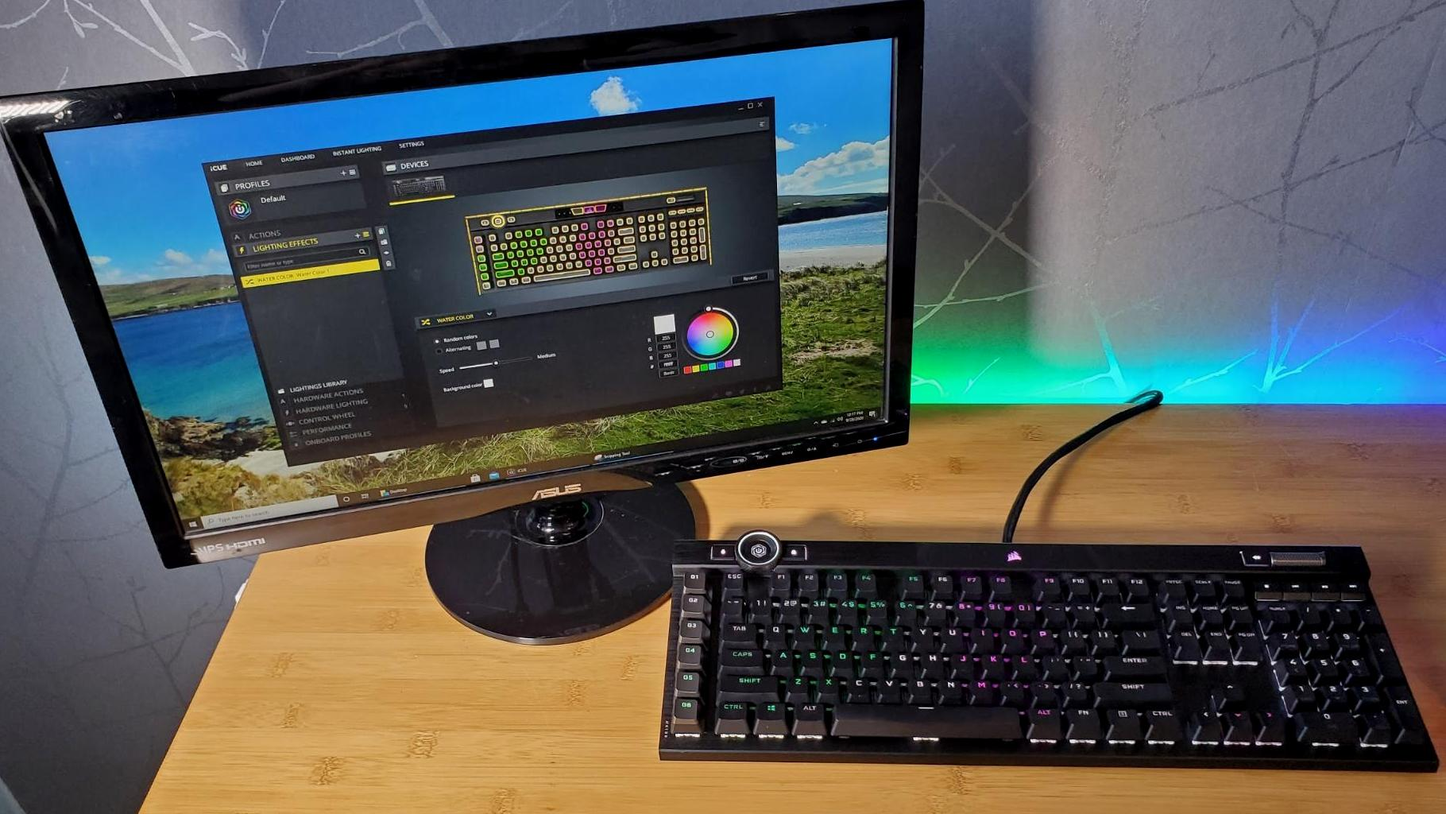keyboard: (657, 529, 1440, 775)
